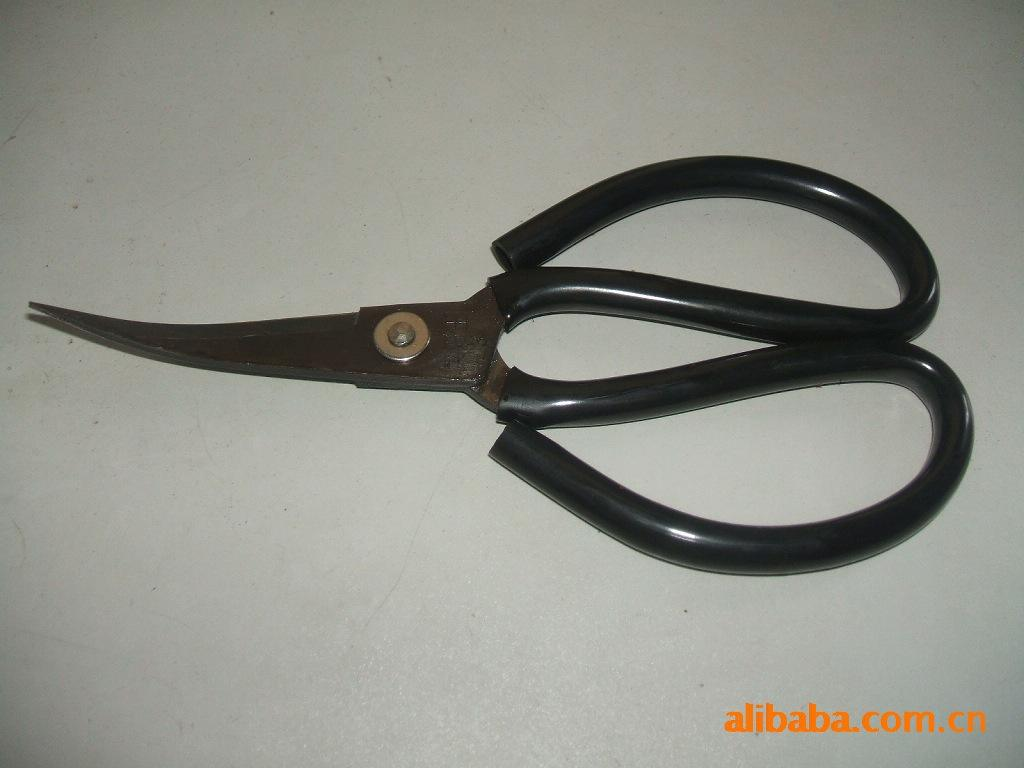scissor: (23, 132, 975, 578)
